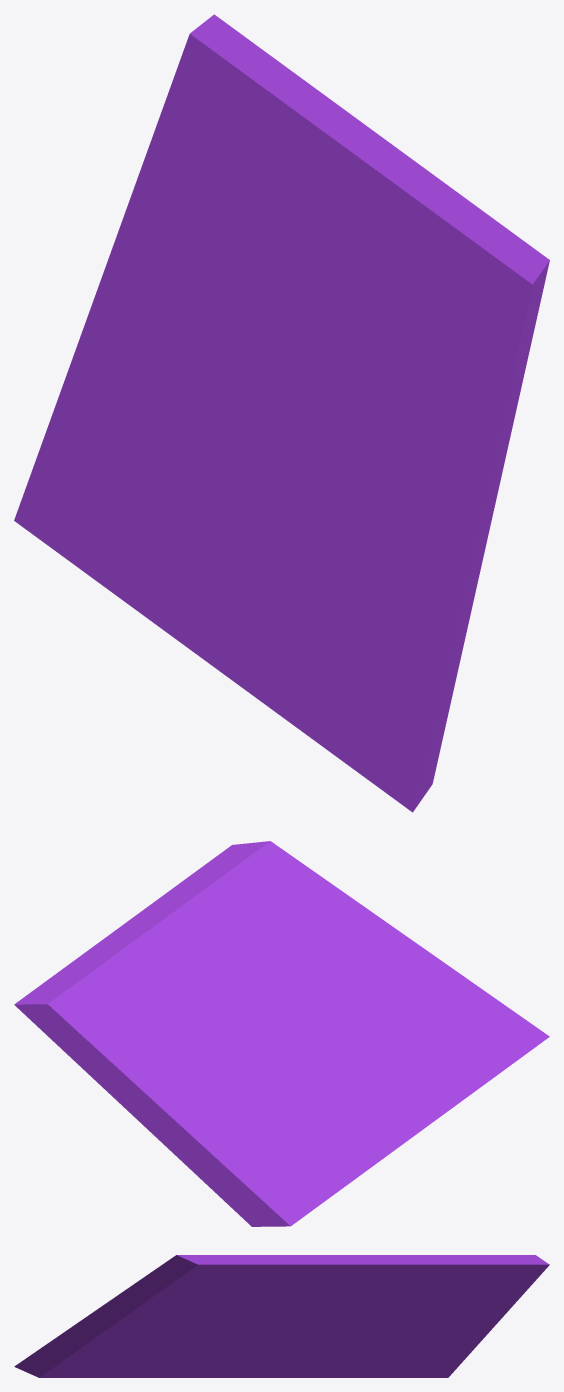
File: Window_113_chunks.fbx
3 views of the same model, one above another, from view 1: azimuth 30°, elevation 25°; view 2: azimuth 150°, elevation 25°; view 3: azimuth 270°, elevation 25° (orthographic). The views are drawn at different scales.
Visible parts, largest first — view 1: Window_113_0, Window_113_2, Window_113_1, Window_113_6, Window_113_3, Window_113_5; view 2: Window_113_0, Window_113_2, Window_113_1, Window_113_6, Window_113_3, Window_113_5; view 3: Window_113_0, Window_113_2, Window_113_6, Window_113_3, Window_113_5, Window_113_1, Window_113_4.
Part boxes in pixels (left/top/right/bottom): Window_113_0: left=139, top=362, right=521, bottom=812; Window_113_2: left=14, top=232, right=246, bottom=611; Window_113_1: left=118, top=17, right=300, bottom=443; Window_113_6: left=329, top=162, right=549, bottom=384; Window_113_3: left=210, top=14, right=405, bottom=231; Window_113_5: left=266, top=231, right=338, bottom=388; Window_113_0: left=278, top=870, right=549, bottom=1166; Window_113_2: left=56, top=1044, right=371, bottom=1226; Window_113_1: left=19, top=985, right=298, bottom=1094; Window_113_6: left=146, top=841, right=311, bottom=987; Window_113_3: left=14, top=911, right=193, bottom=1008; Window_113_5: left=179, top=959, right=284, bottom=1012; Window_113_0: left=14, top=1271, right=294, bottom=1377; Window_113_2: left=291, top=1284, right=531, bottom=1377; Window_113_6: left=152, top=1255, right=341, bottom=1315; Window_113_3: left=340, top=1255, right=549, bottom=1299; Window_113_5: left=260, top=1290, right=414, bottom=1324; Window_113_1: left=440, top=1255, right=547, bottom=1294; Window_113_4: left=336, top=1263, right=364, bottom=1289.
Bounding box in the file's own units: 720 × 763 × 2038.
